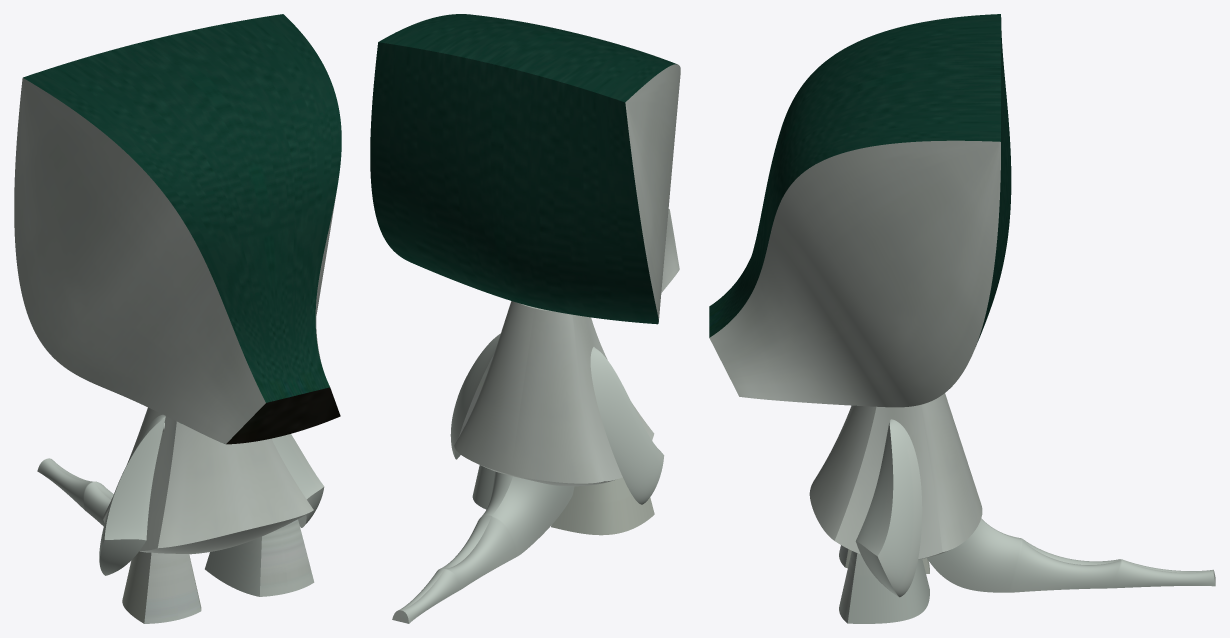
The model's file is Armadillo.glb.
The picture shows the model from 3 angles, left to right: view 1: azimuth 30°, elevation 25°; view 2: azimuth 150°, elevation 25°; view 3: azimuth 270°, elevation 25°; orthographic projection. The views are drawn at different scales.
Visible parts, largest first — view 1: HEAD_1, HEAD_0_0, BODY, LEFT LEG, RIGHT ARM, RIGHT LEG, HEAD_0_1, TAIL, LEFT ARM; view 2: HEAD_1, BODY, TAIL, HEAD_0_0, RIGHT ARM, RIGHT LEG, LEFT ARM, LEFT LEG; view 3: HEAD_0_0, HEAD_1, BODY, TAIL, LEFT ARM, LEFT LEG.
Boxes of the visible parts, x1,y1,x2,y2 form: HEAD_1: (23,14,341,402); HEAD_0_0: (14,78,336,444); BODY: (103,407,313,554); LEFT LEG: (205,519,314,596); RIGHT ARM: (99,414,165,575); RIGHT LEG: (122,551,201,623); HEAD_0_1: (226,387,340,444); TAIL: (37,458,113,526); LEFT ARM: (272,434,324,527); HEAD_1: (370,14,676,324); BODY: (454,301,654,486); TAIL: (392,471,574,623); HEAD_0_0: (625,64,680,321); RIGHT ARM: (590,347,664,504); RIGHT LEG: (551,477,654,535); LEFT ARM: (450,333,500,459); LEFT LEG: (472,465,494,509); HEAD_0_0: (709,140,1000,407); HEAD_1: (709,14,1011,344); BODY: (809,393,982,559); TAIL: (927,518,1215,592); LEFT ARM: (855,419,922,597); LEFT LEG: (839,551,929,623).
Size of the model in its own units: 0.1057 by 0.1767 by 0.1587.
11 materials, 10 textured.
